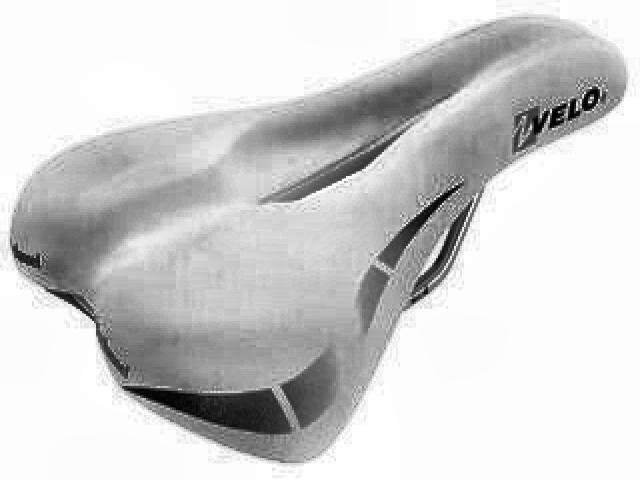saddle: (11, 11, 630, 466)
